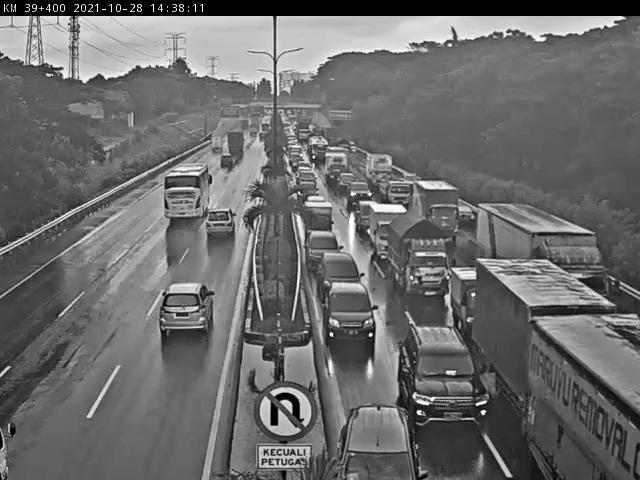big truck: (472, 256, 617, 462), (533, 316, 640, 480), (480, 199, 619, 302), (387, 210, 454, 297), (155, 164, 213, 229)
car: (392, 316, 491, 432), (329, 394, 415, 480), (140, 280, 217, 360), (322, 283, 380, 350), (322, 249, 364, 312), (305, 228, 347, 271), (200, 213, 239, 250), (308, 200, 332, 232)
